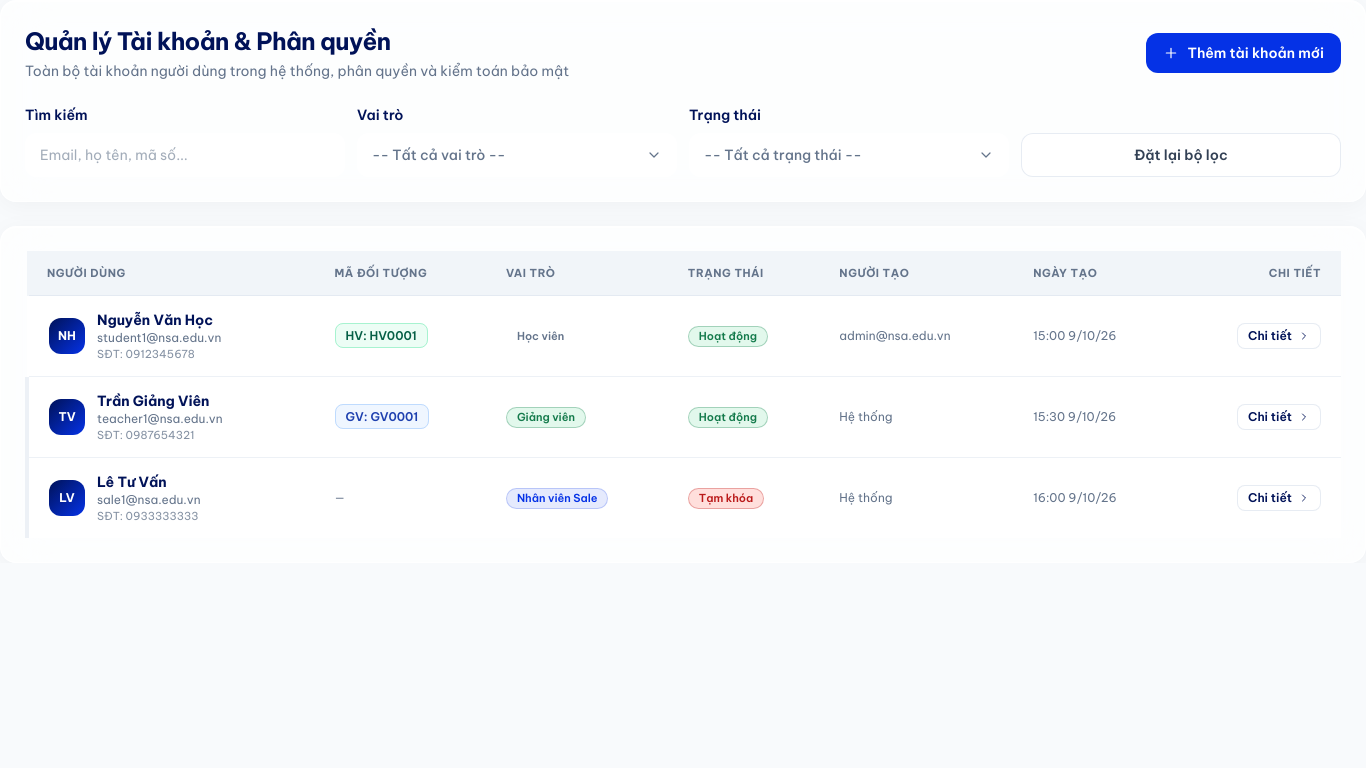
it: UserManagementPage › opens create user modal when clicking 'Thêm tài khoản mới'
This screenshot has width=1366, height=768.
expect the text "Nguyễn Văn Học" is shown: met, box [97,310,221,330]
Click the button "Thêm tài khoản mới" at (1244, 53), box [1146,33,1341,73]
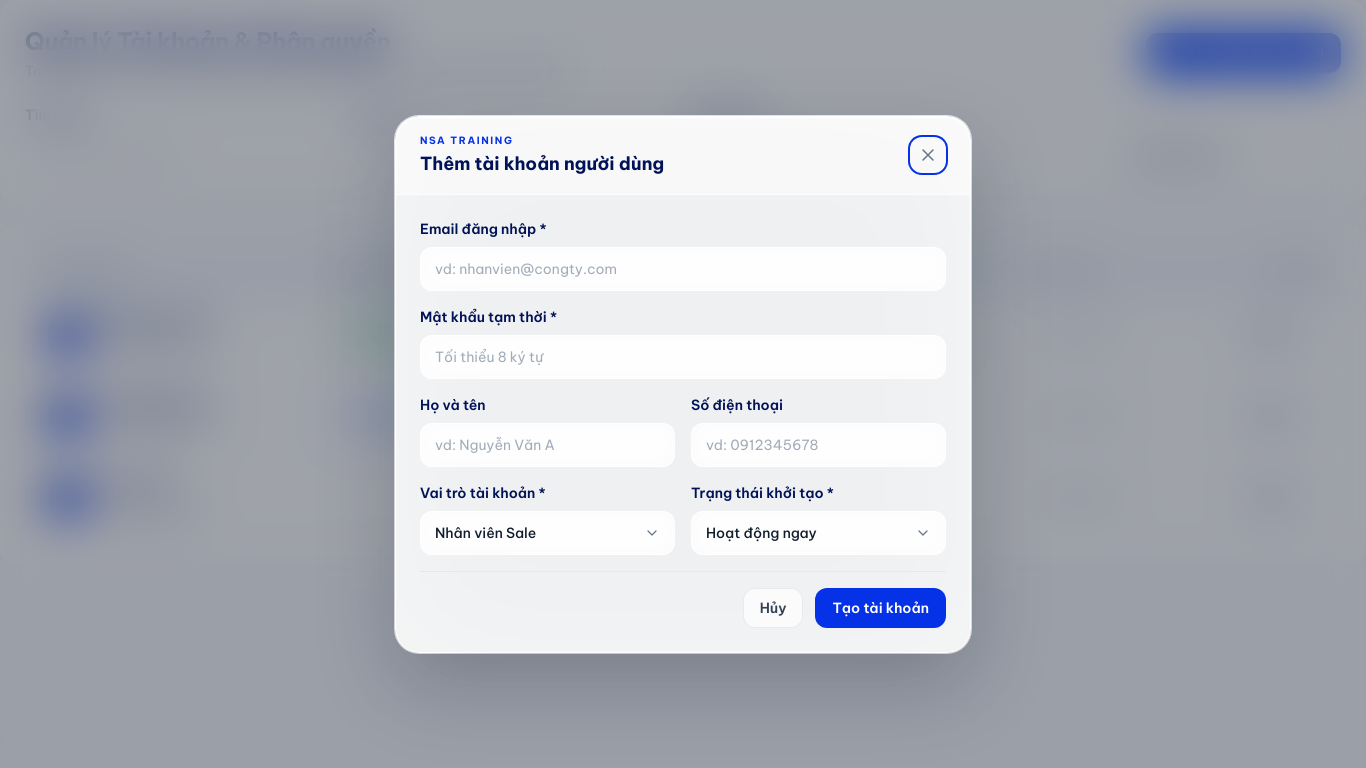
expect the heading "Thêm tài khoản người dùng" is shown: met, box [420,150,664,178]
expect the field labelled "Email đăng nhập *" is shown: met, box [420,246,946,290]
